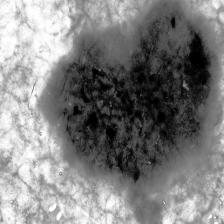Benign Marking or Mole: (43, 8, 218, 176)
